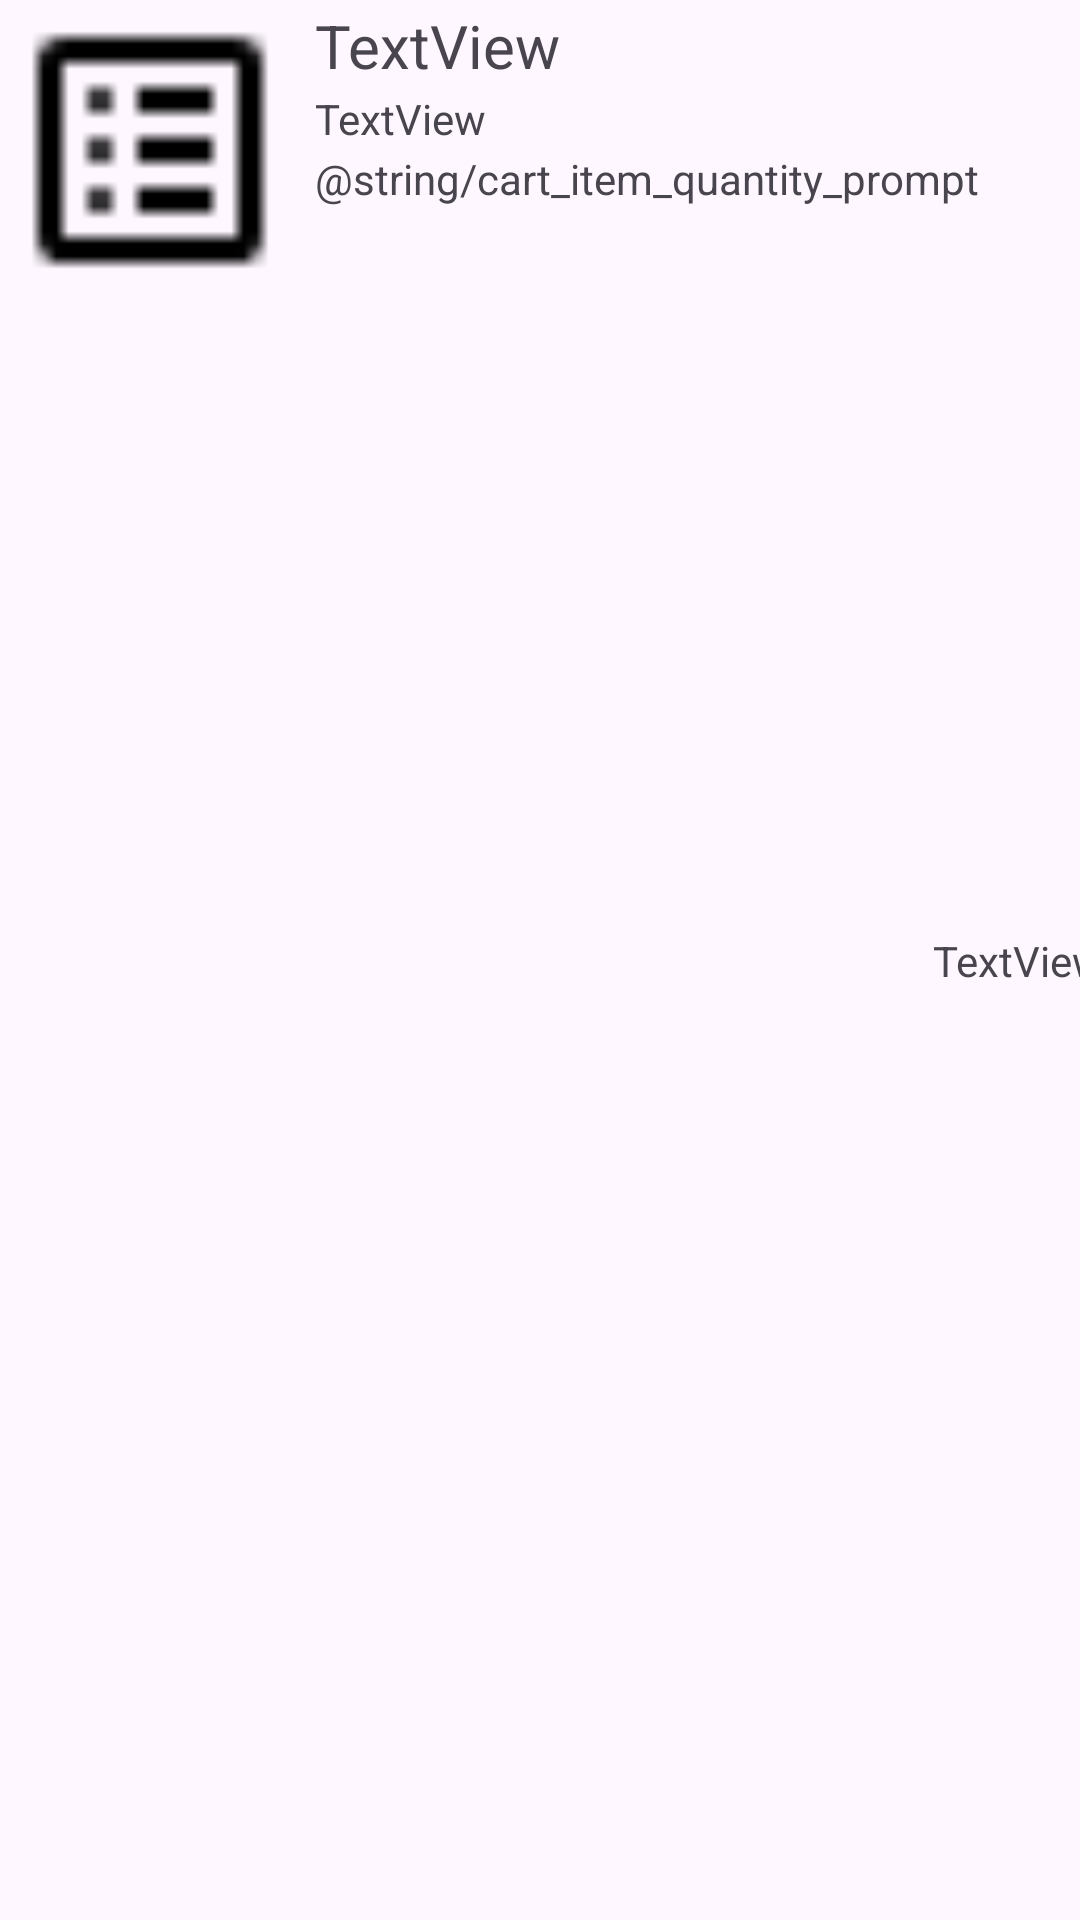

Icon click points for this 1080px x 1920px phone screenshot, format (x,y):
catalog: (150,150)
